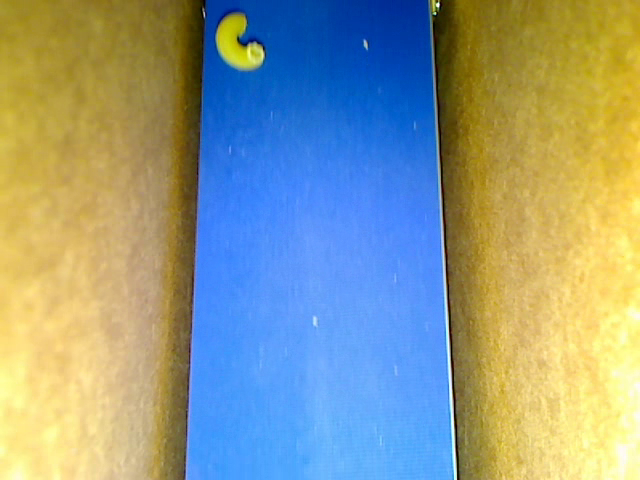elbow: (216, 13, 263, 69)
